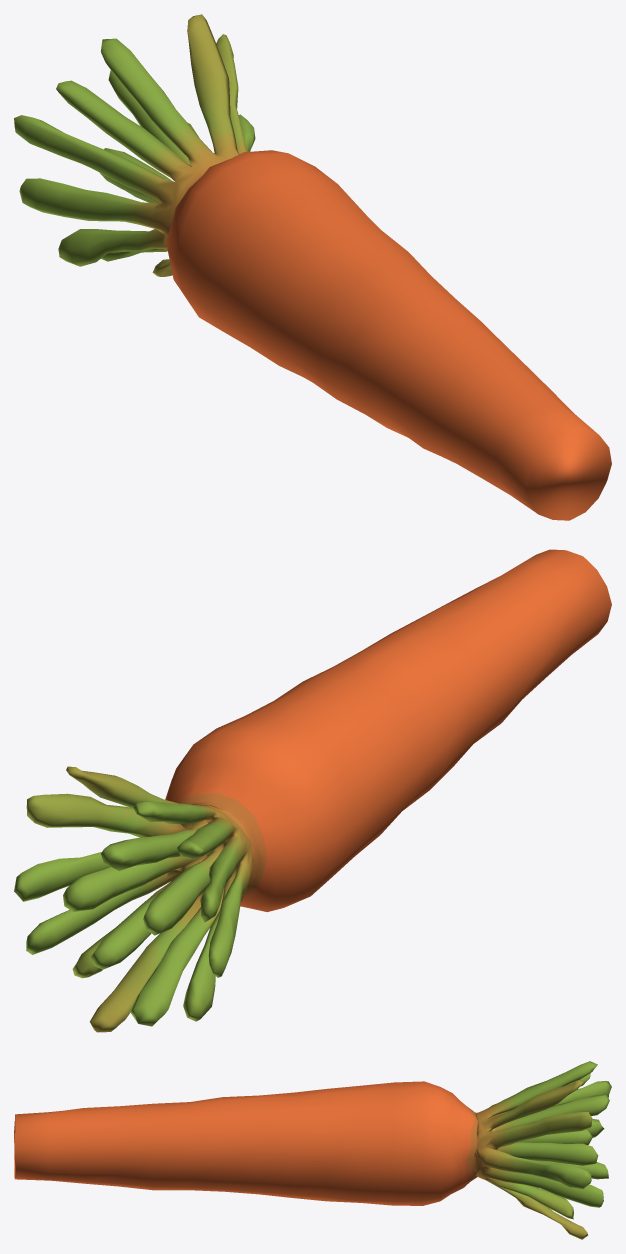
The model's file is carrot_cut1.fbx.
3 renders of one model, top to bottom at view 1: azimuth 30°, elevation 25°; view 2: azimuth 150°, elevation 25°; view 3: azimuth 270°, elevation 25°, orthographic. The views are drawn at different scales.
Parts seen in each view (by area): view 1: Cylinder.005; view 2: Cylinder.005; view 3: Cylinder.005.
Part boxes in pixels (box(x1,y1,x2,y2)): Cylinder.005: box(14, 14, 611, 520); Cylinder.005: box(14, 549, 611, 1032); Cylinder.005: box(14, 1061, 611, 1239).
Size of the model in its own units: 98.78 by 111 by 360.
